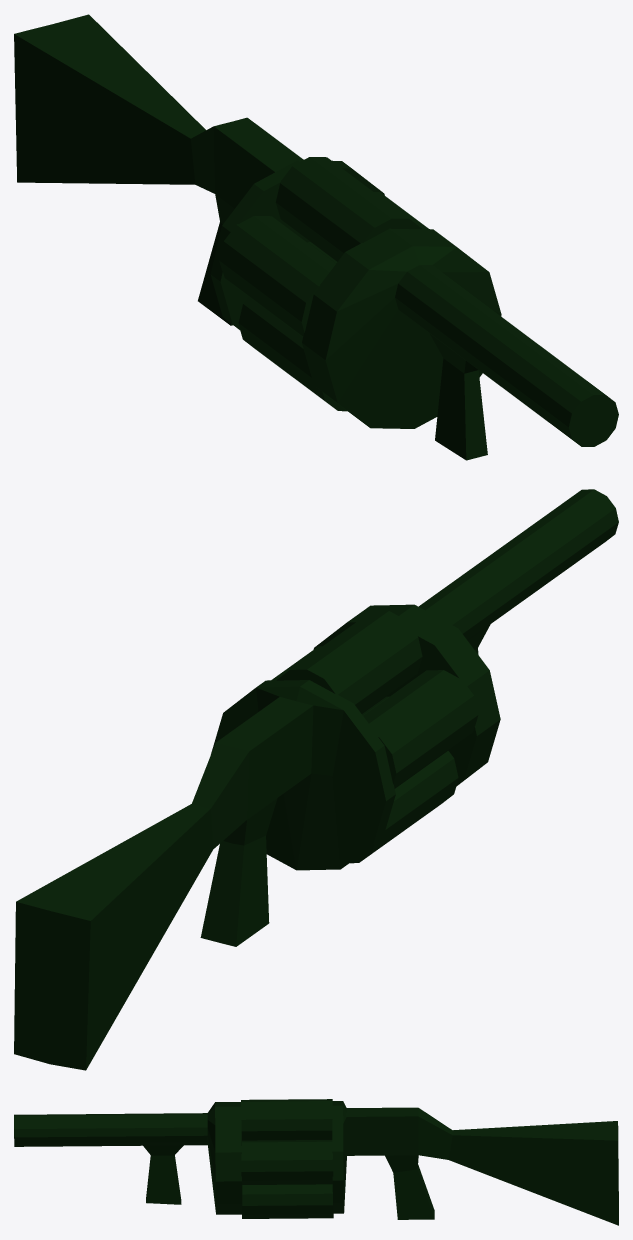
File: gun test.glb
The picture shows the model from 3 angles, top to bottom: view 1: azimuth 30°, elevation 25°; view 2: azimuth 150°, elevation 25°; view 3: azimuth 270°, elevation 25°; orthographic projection. The views are drawn at different scales.
Parts seen in each view (by area): view 1: grenade_launcher; view 2: grenade_launcher; view 3: grenade_launcher.
Boxes of the visible parts, box(x1,y1,x2,y2) form: grenade_launcher: box(14, 14, 618, 460); grenade_launcher: box(14, 489, 618, 1070); grenade_launcher: box(14, 1099, 618, 1225).
Bounding box in the file's own units: 1.18 × 1.32 × 6.26.
